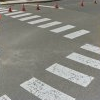crosswalk: (0, 43, 100, 100), (0, 11, 90, 41)
